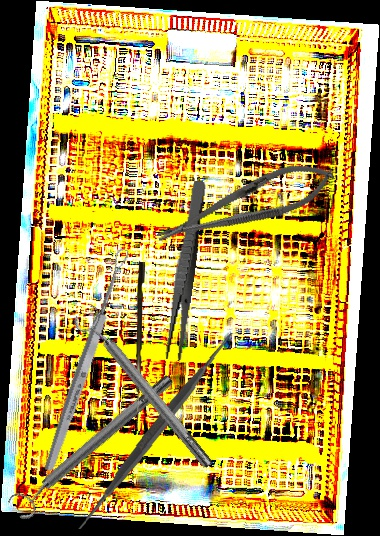Dressing Forceps: (163, 179, 208, 362)
Fixation Ring: (4, 367, 182, 524), (69, 301, 221, 477)
Hook Surgical: (136, 262, 145, 429)
Needle Holder: (149, 150, 341, 259)
Spatula Surgical: (60, 332, 252, 530)
Surgical Spoon: (41, 246, 132, 474)
